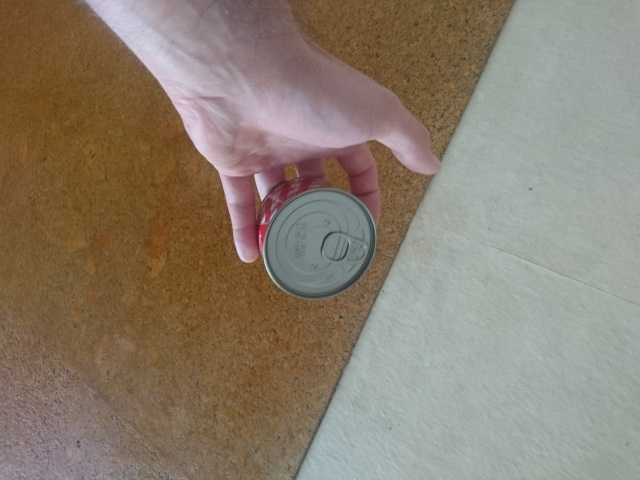Podravka Luncheon Meat 150g: (253, 173, 381, 304)
